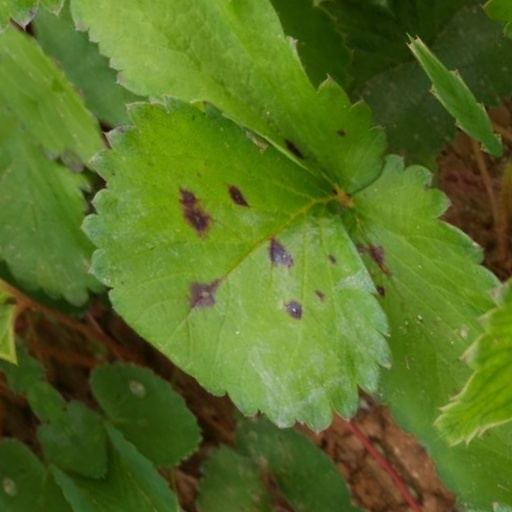Leaf Spot: (111, 54, 357, 447), (248, 0, 439, 270), (261, 256, 447, 511), (36, 383, 130, 511)
